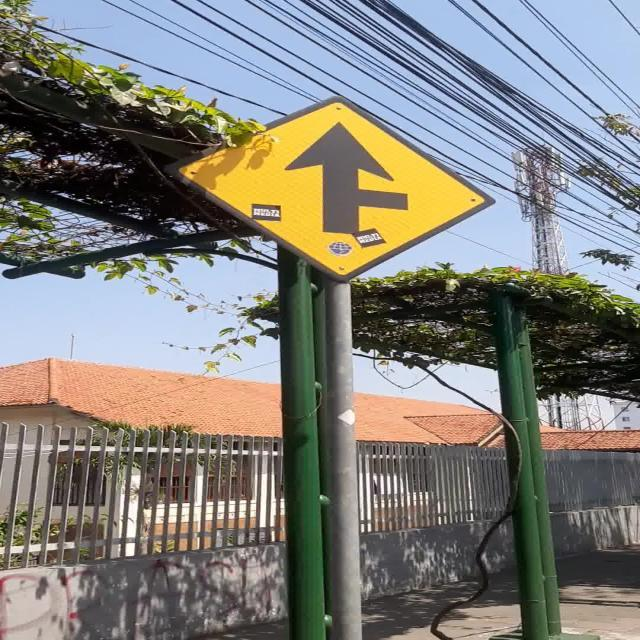Persimpangan 3 Prioritas Kanan: (160, 96, 496, 282)
